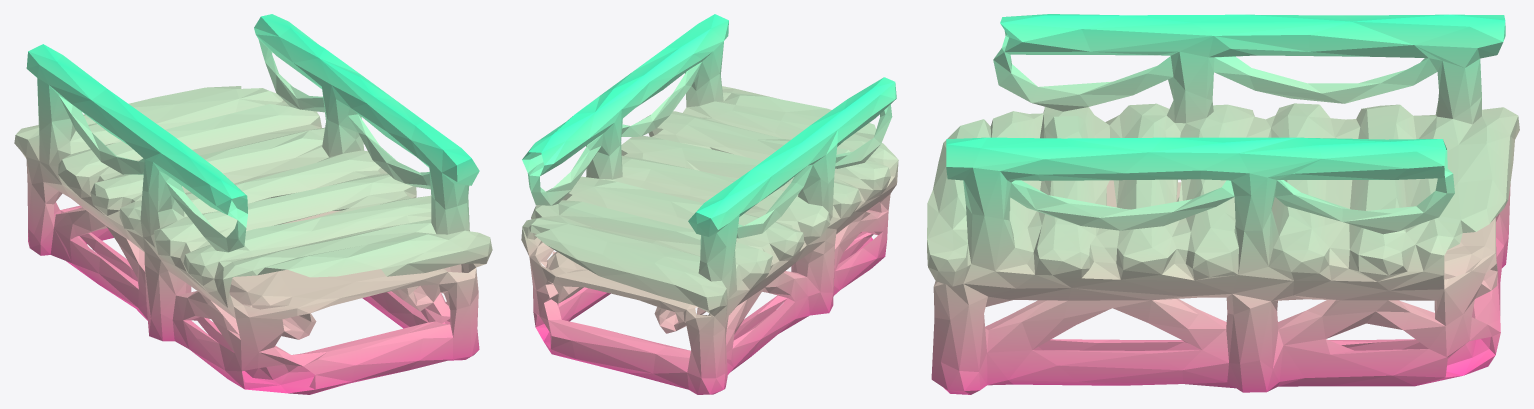
File: 165_cyb_laser_gradient_fish_scales_2937_2026_10_03_bbe8e0.glb
3 views of the same model, side by side, from view 1: azimuth 30°, elevation 25°; view 2: azimuth 150°, elevation 25°; view 3: azimuth 270°, elevation 25° (orthographic). The views are drawn at different scales.
Visible parts, largest first — view 1: geometry_0; view 2: geometry_0; view 3: geometry_0.
Boxes of the visible parts, x1=… form: geometry_0: x1=14, y1=14, x2=492, y2=394; geometry_0: x1=521, y1=14, x2=898, y2=394; geometry_0: x1=927, y1=14, x2=1519, y2=394.
Bounding box in the file's own units: 0.6121 × 0.4641 × 1.
